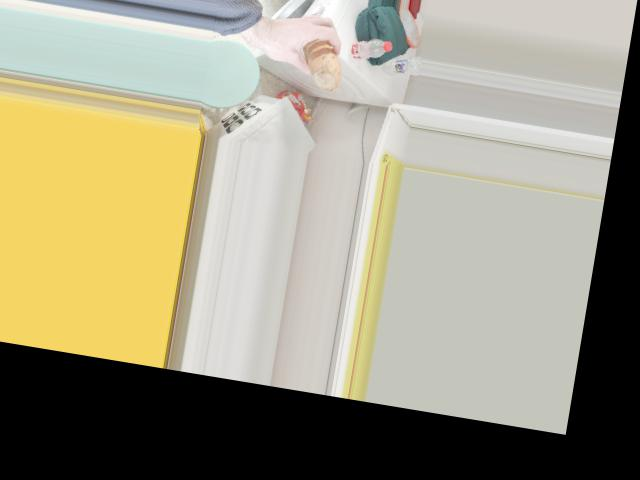sweet_potato: (298, 34, 348, 84)
